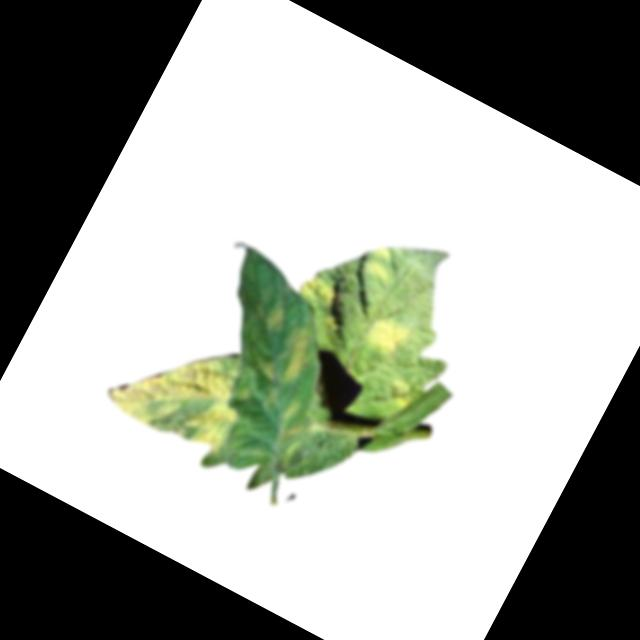Leaf_Mold: (101, 319, 258, 462), (271, 321, 321, 386), (356, 307, 413, 362), (357, 238, 402, 285), (295, 269, 339, 312), (382, 372, 423, 414), (260, 299, 293, 337)
